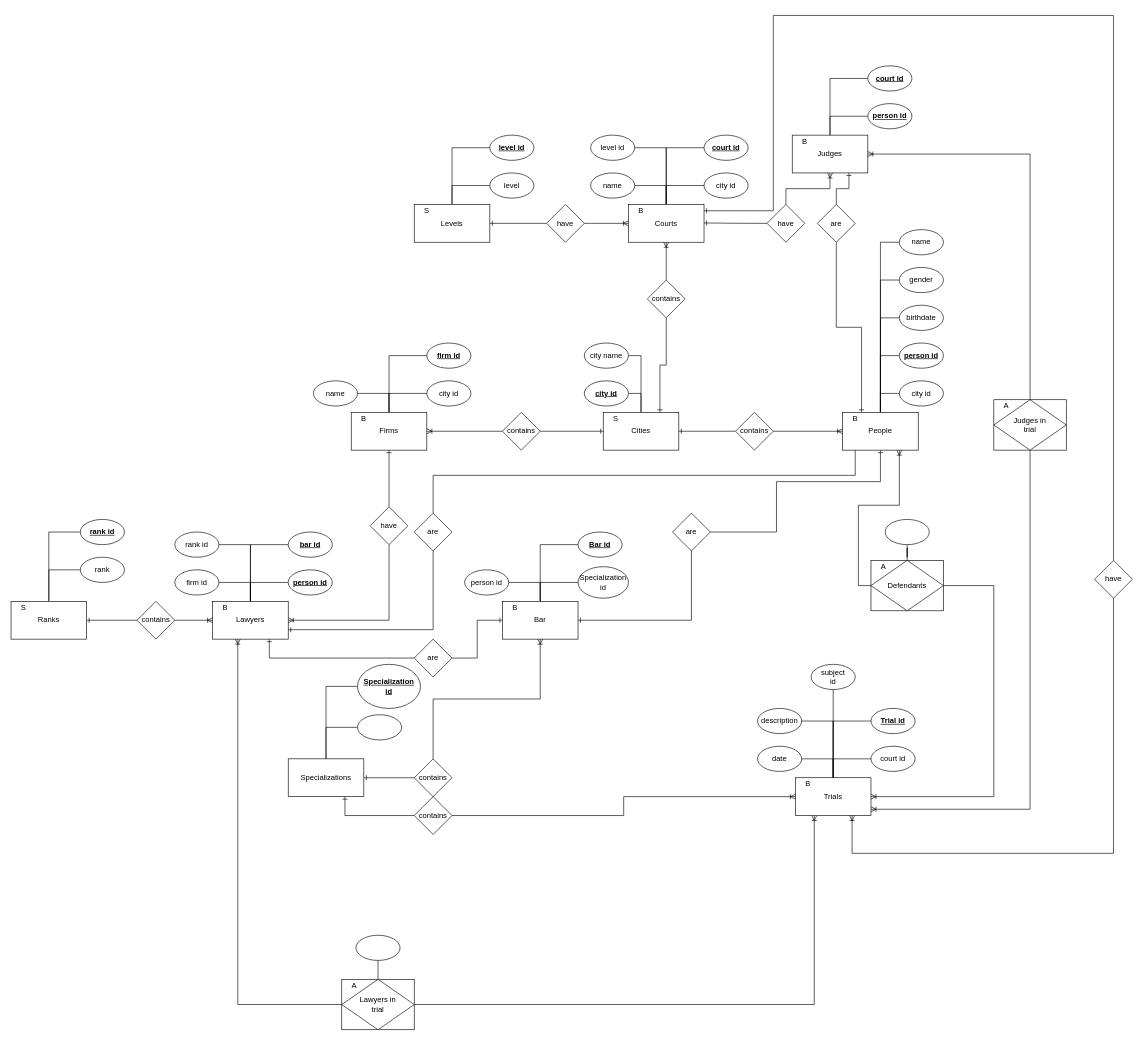
Image size: 1143x1041. Some labels were removed from this diagram. The centre of each missing label's shape, as x and y in pixels:
area: point 379,727
conclusion: point 907,532
team: point 377,947
